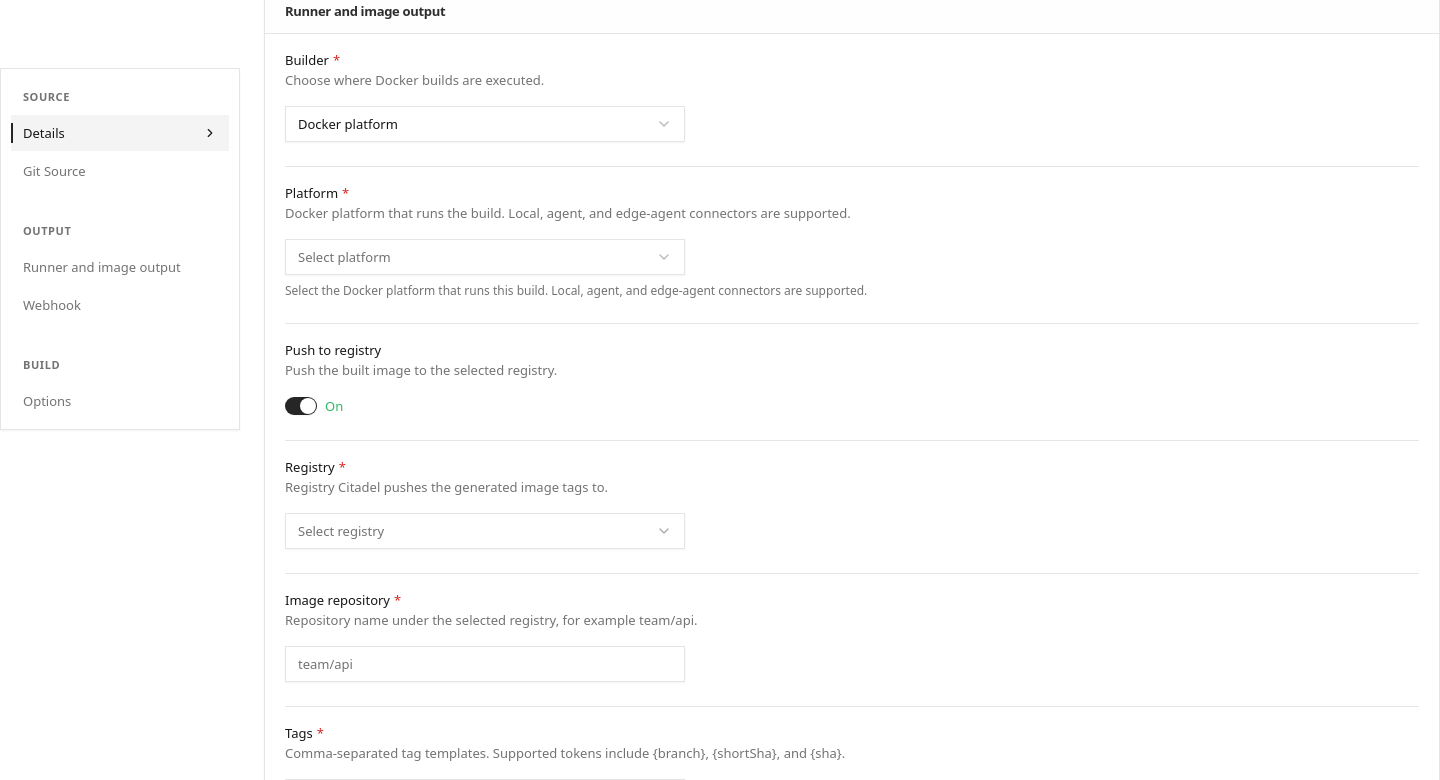
defaults to pushing and hides the required registry fields when disabled
(page scrolled)
Expected: the text "Image repository" is shown, [285,591,390,609]
Click the switch named "Push to registry" at (301, 406), box [285,397,317,415]
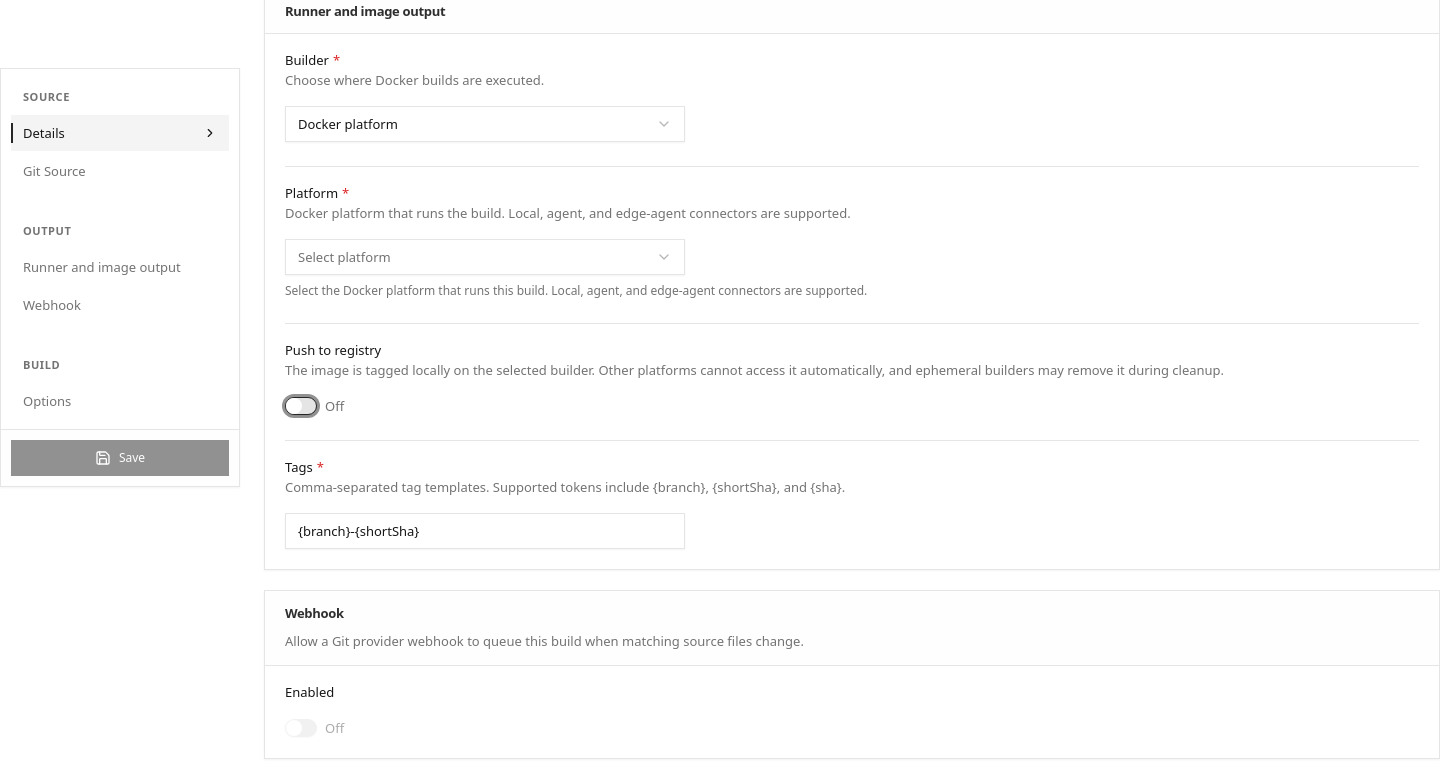
Expected: the switch named "Push to registry" is not checked
Expected: the text "Image repository" is gone
Expected: the dropdown "Select registry" is gone
Click the switch named "Push to registry" at (301, 406), box [285,397,317,415]
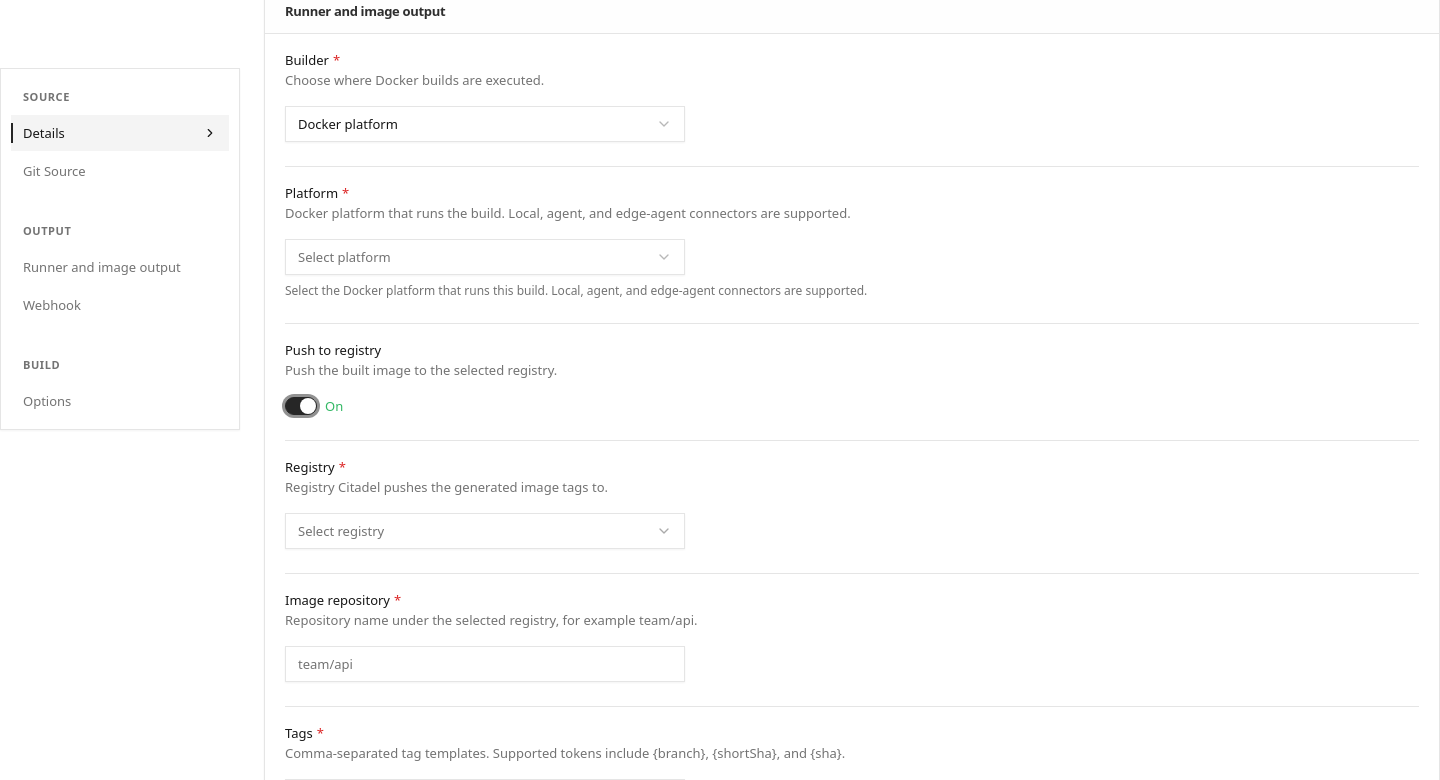
Expected: the text "Image repository" is shown, [285,591,390,609]
